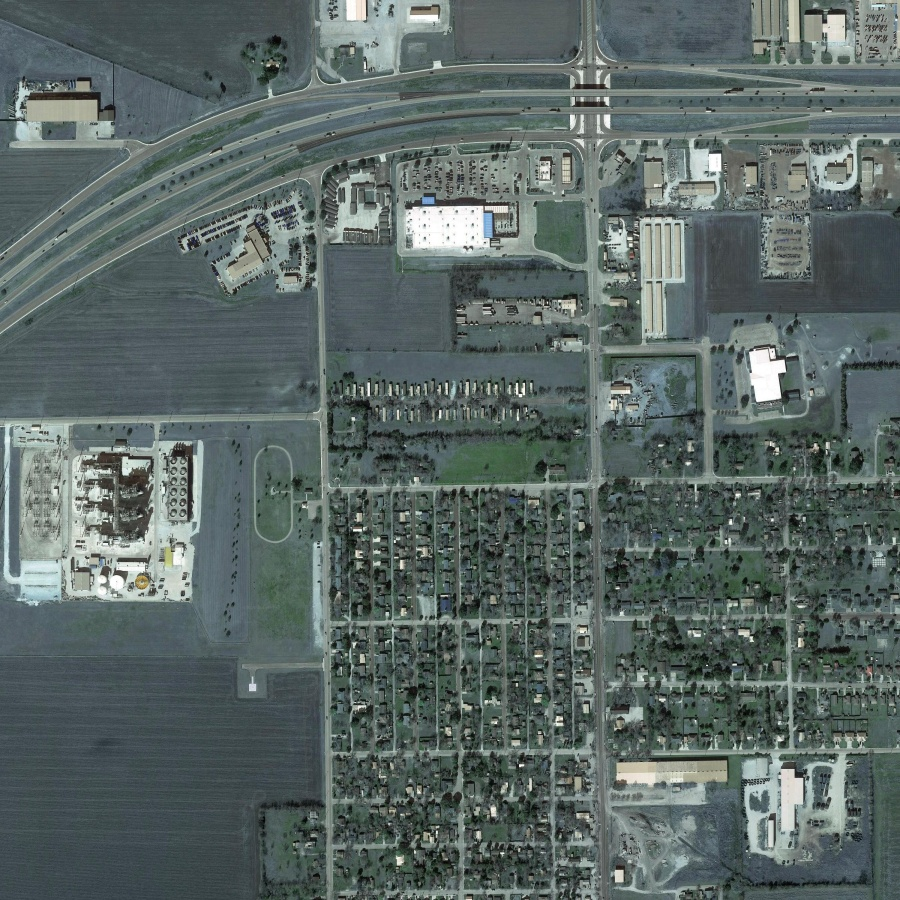PowerPlant: (6, 419, 200, 608)
